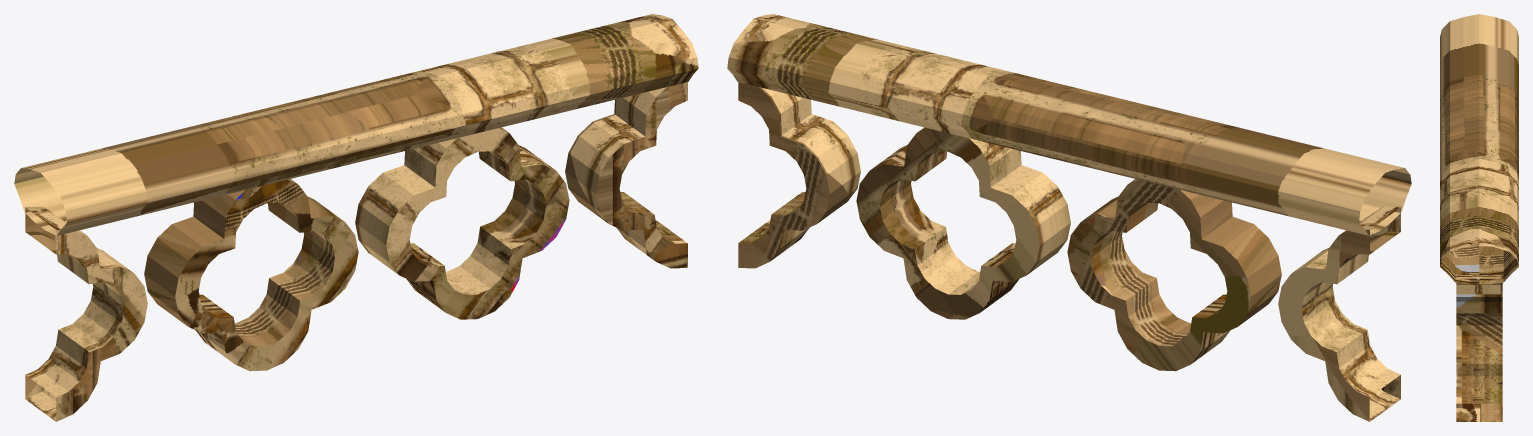
File: SM_Valla3.fbx
3 views of the same model, side by side, from view 1: azimuth 30°, elevation 25°; view 2: azimuth 150°, elevation 25°; view 3: azimuth 270°, elevation 25° (orthographic). The views are drawn at different scales.
Visible parts, largest first — view 1: SM_Valla3; view 2: SM_Valla3; view 3: SM_Valla3.
Boxes of the visible parts, x1,y1,x2,y2 form: SM_Valla3: (14,14,698,421); SM_Valla3: (727,14,1411,421); SM_Valla3: (1440,14,1518,421).
Bounding box in the file's own units: 300 × 108 × 43.42.
